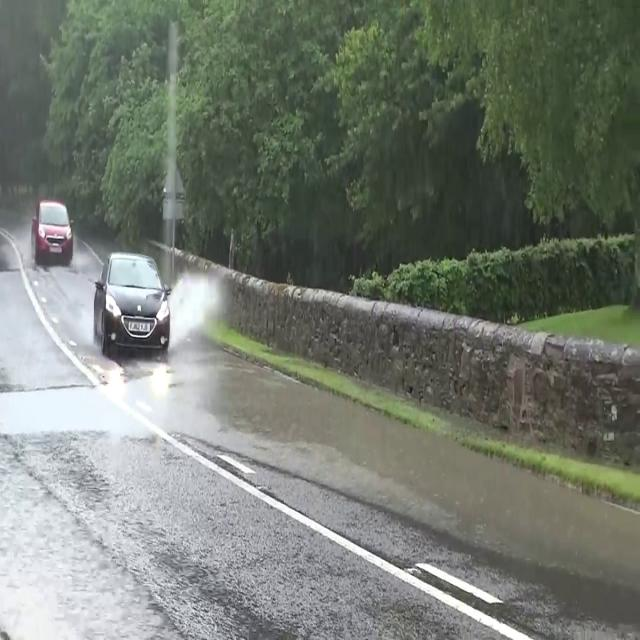license-plate-annotation: (124, 321, 153, 336)
